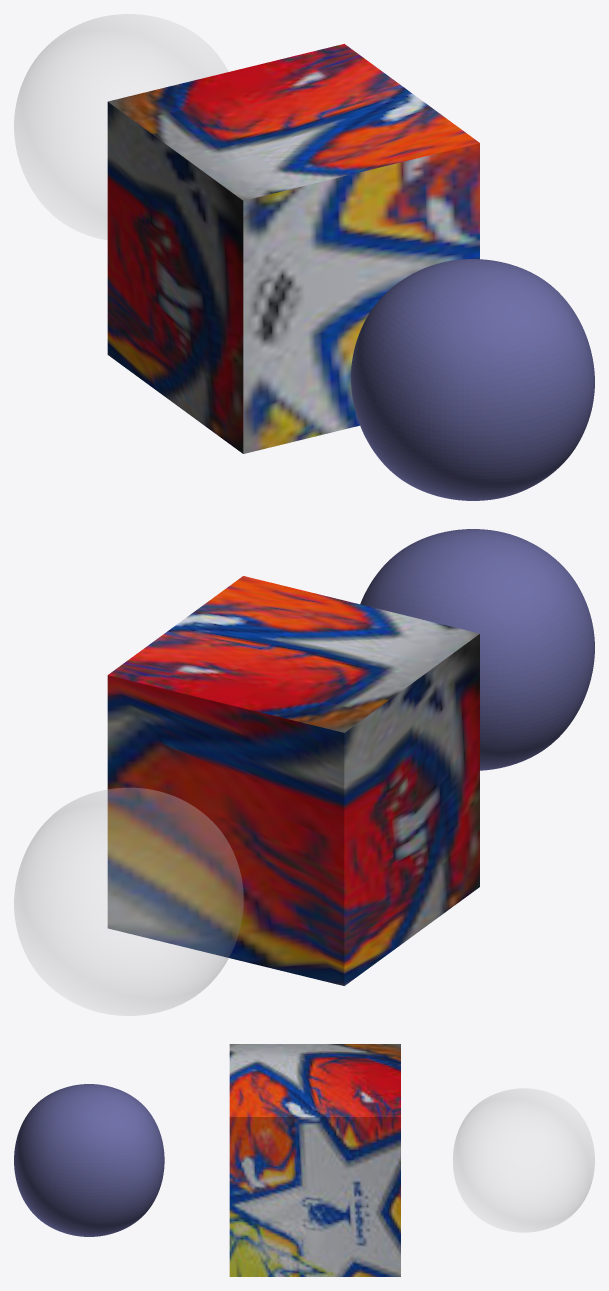
The picture shows the model from 3 angles, top to bottom: view 1: azimuth 30°, elevation 25°; view 2: azimuth 150°, elevation 25°; view 3: azimuth 270°, elevation 25°; orthographic projection. The views are drawn at different scales.
Visible parts, largest first — view 1: Cube, Cube.001, Cube.002; view 2: Cube, Cube.002, Cube.001; view 3: Cube, Cube.001, Cube.002.
Part boxes in pixels (x1,y1,x2,y2): Cube: [107, 44, 479, 453]; Cube.001: [351, 259, 594, 500]; Cube.002: [14, 14, 228, 239]; Cube: [107, 576, 479, 985]; Cube.002: [14, 788, 243, 1015]; Cube.001: [360, 529, 594, 770]; Cube: [229, 1044, 400, 1276]; Cube.001: [14, 1084, 164, 1236]; Cube.002: [453, 1088, 594, 1232].
Bounding box in the file's own units: 8.65 × 8.84 × 29.1.
Materials: 3 (1 with a texture image).
